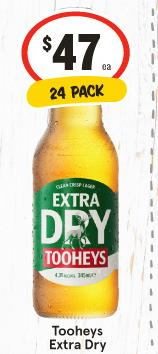description_block: (35, 316, 112, 354)
price_main: (11, 20, 134, 75)
product_image_block: (24, 98, 135, 323)
promo_text_block: (26, 75, 133, 101)
